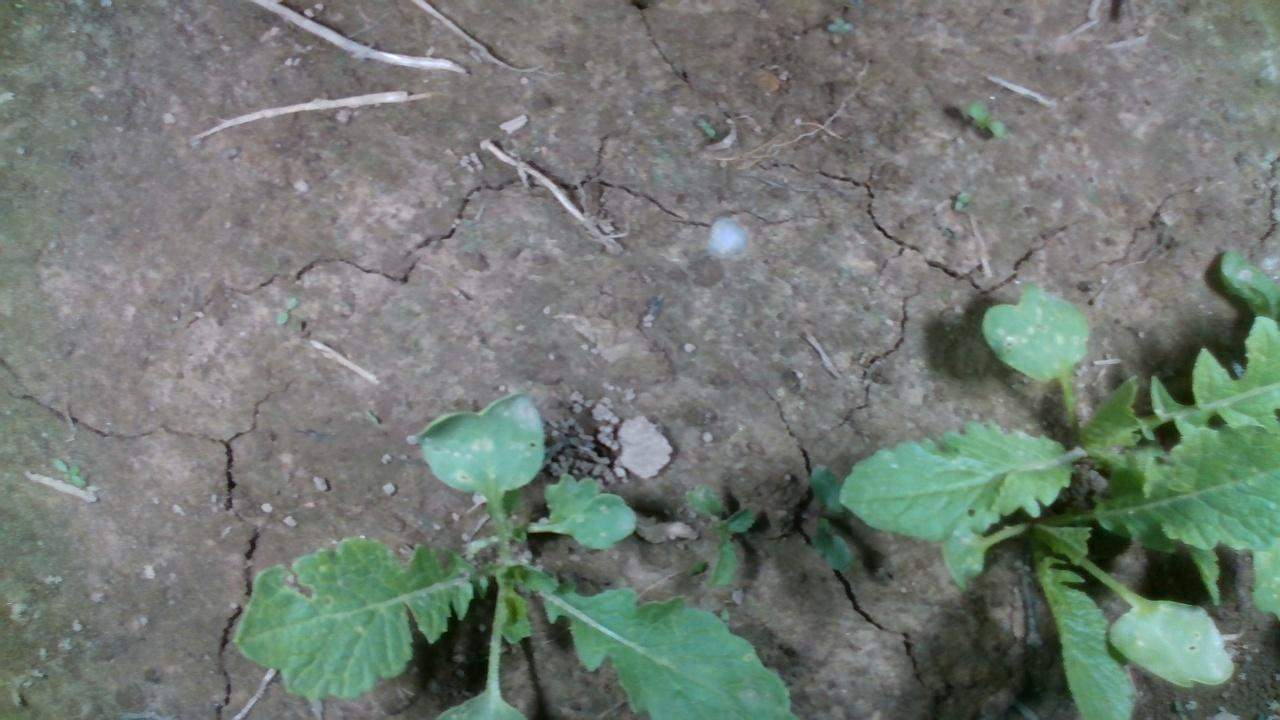weed: (965, 96, 1004, 140)
